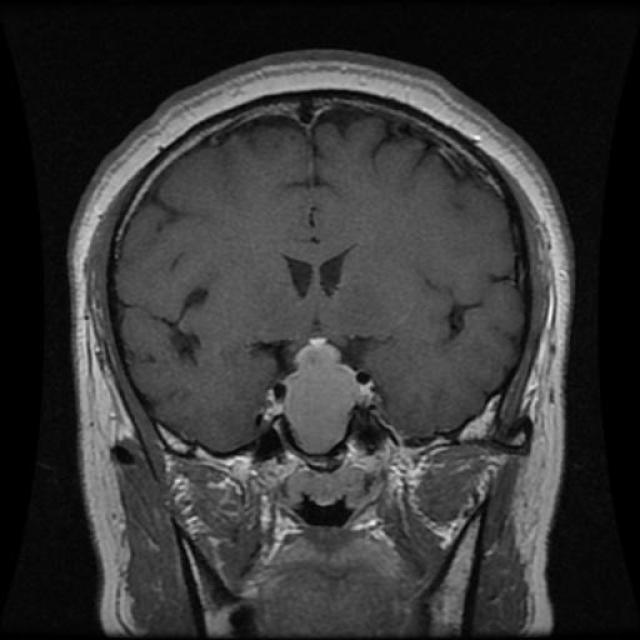pituitary: (258, 320, 390, 459)
